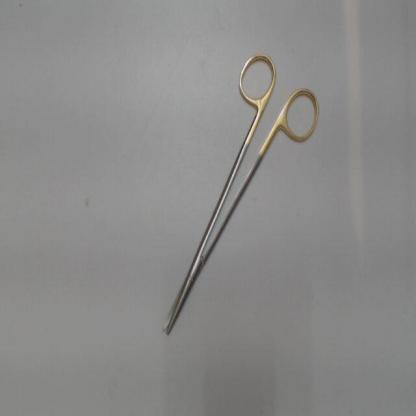7 Metzenbaum Scissors: (160, 47, 326, 336)
